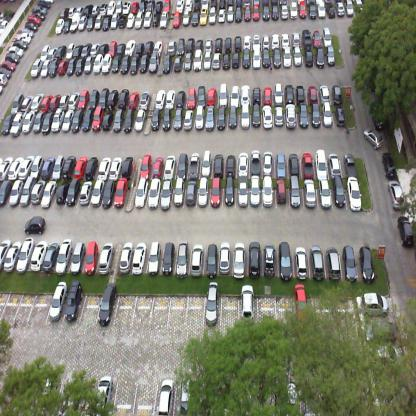car: (384, 383, 411, 415), (364, 321, 399, 345), (97, 282, 116, 326), (48, 280, 68, 321), (64, 279, 83, 320), (360, 291, 388, 317), (372, 346, 402, 369), (158, 378, 176, 416), (358, 244, 375, 284), (16, 237, 34, 274), (95, 376, 113, 412), (205, 281, 219, 326), (55, 238, 72, 274), (346, 176, 362, 213), (397, 214, 414, 248), (362, 125, 384, 151), (342, 244, 357, 282), (3, 242, 22, 272), (278, 241, 292, 281), (131, 241, 147, 276), (42, 240, 59, 272), (30, 241, 48, 271), (294, 284, 308, 322), (240, 284, 254, 322), (118, 242, 134, 275), (70, 242, 86, 275), (310, 244, 324, 281), (19, 176, 36, 206), (248, 240, 261, 279), (176, 239, 189, 278), (98, 242, 113, 275), (370, 104, 387, 133), (326, 245, 340, 280), (84, 240, 98, 275), (295, 245, 308, 281), (134, 178, 149, 209), (388, 181, 404, 210), (41, 179, 57, 208), (114, 176, 128, 208), (162, 240, 175, 274), (333, 175, 346, 209), (24, 216, 46, 236), (101, 179, 116, 208), (8, 179, 24, 206), (190, 244, 203, 277), (18, 155, 35, 180), (10, 111, 27, 136), (382, 152, 397, 180), (289, 173, 301, 208), (91, 177, 105, 207), (233, 242, 244, 280), (160, 178, 173, 210), (30, 179, 46, 205), (148, 240, 160, 274), (0, 238, 12, 272), (148, 178, 161, 209), (286, 382, 298, 415), (206, 242, 217, 278), (66, 179, 80, 207), (0, 179, 14, 207), (51, 106, 65, 134), (315, 148, 327, 180), (262, 174, 274, 206), (0, 112, 16, 136), (70, 108, 84, 135), (318, 179, 331, 208), (264, 244, 275, 278), (185, 179, 198, 207), (79, 180, 93, 206), (62, 154, 76, 180), (52, 154, 66, 180), (238, 174, 249, 207), (304, 178, 316, 208), (197, 176, 209, 206), (108, 156, 123, 180), (41, 156, 56, 180), (8, 157, 24, 179), (21, 112, 37, 134), (224, 176, 236, 205), (97, 157, 112, 180), (220, 240, 230, 274), (328, 152, 341, 178), (163, 154, 176, 180), (188, 152, 200, 180), (84, 156, 98, 180), (92, 104, 104, 132), (10, 92, 24, 116), (56, 181, 70, 204), (201, 148, 212, 177), (250, 148, 262, 174), (176, 152, 188, 178), (140, 152, 152, 178), (74, 156, 87, 180), (30, 155, 43, 179), (284, 103, 296, 129), (123, 108, 135, 134), (250, 175, 260, 206), (210, 177, 220, 208), (302, 152, 314, 177), (262, 105, 274, 130), (172, 106, 184, 131), (62, 107, 74, 132), (121, 156, 134, 179), (0, 158, 13, 181), (76, 87, 90, 108), (112, 108, 124, 132), (344, 154, 357, 176), (174, 180, 185, 206), (152, 156, 165, 178), (322, 101, 333, 127), (32, 112, 45, 134), (48, 57, 61, 79), (30, 92, 45, 111), (276, 177, 286, 204), (276, 151, 286, 178), (216, 104, 226, 131), (238, 152, 249, 176), (334, 104, 346, 126), (183, 108, 194, 132), (154, 89, 166, 111), (134, 110, 146, 132), (117, 88, 129, 110), (82, 110, 94, 132), (42, 112, 54, 134), (149, 50, 160, 74), (311, 102, 321, 128), (218, 82, 228, 108), (204, 105, 214, 131), (102, 111, 115, 131), (30, 58, 43, 78), (315, 47, 326, 70), (299, 102, 308, 130), (107, 89, 119, 110), (289, 152, 299, 177), (262, 150, 272, 175), (240, 106, 250, 131), (194, 106, 204, 131), (88, 88, 99, 110), (303, 47, 314, 69), (291, 44, 302, 66), (101, 53, 112, 75), (226, 152, 236, 176), (332, 82, 342, 106), (150, 108, 160, 132), (193, 49, 203, 73), (138, 54, 150, 74), (119, 56, 131, 76), (20, 95, 34, 112), (57, 58, 70, 76), (83, 55, 96, 73), (93, 53, 104, 74), (202, 48, 212, 71), (41, 94, 53, 113), (8, 45, 24, 59), (319, 82, 329, 104), (308, 84, 319, 104), (262, 84, 272, 106), (240, 84, 250, 106), (230, 85, 240, 107), (165, 88, 176, 108), (326, 44, 336, 66), (162, 53, 172, 75), (129, 56, 140, 76), (252, 104, 261, 128), (162, 106, 171, 130), (68, 91, 80, 109), (40, 59, 52, 77), (74, 58, 86, 76), (284, 82, 294, 103), (274, 104, 284, 125), (99, 86, 109, 107), (252, 49, 262, 70), (80, 43, 94, 58), (1, 60, 16, 74), (228, 105, 236, 131), (274, 82, 283, 105), (49, 94, 61, 111), (124, 39, 136, 56), (12, 39, 29, 51), (221, 50, 231, 70), (183, 51, 193, 71), (214, 154, 223, 176), (111, 55, 122, 73), (107, 39, 118, 57), (65, 42, 76, 60), (77, 14, 88, 32), (101, 13, 112, 31), (128, 92, 140, 108), (153, 40, 165, 56), (89, 42, 101, 58), (206, 86, 216, 105), (140, 90, 150, 109), (302, 30, 312, 49), (176, 36, 186, 55), (40, 43, 50, 62), (66, 57, 76, 76), (70, 13, 80, 32), (317, 0, 327, 19), (327, 0, 337, 19), (187, 87, 196, 108), (272, 48, 281, 69), (53, 18, 64, 35), (284, 45, 292, 68), (59, 93, 71, 108), (322, 27, 332, 45), (311, 29, 321, 47), (242, 48, 251, 68), (174, 55, 184, 73), (5, 52, 20, 64), (17, 32, 32, 44), (86, 14, 96, 32), (152, 10, 162, 28), (355, 0, 365, 18), (198, 84, 206, 106), (72, 44, 83, 60), (93, 15, 104, 31), (176, 88, 185, 107), (262, 49, 271, 68), (280, 32, 290, 49), (142, 11, 152, 28), (55, 45, 67, 59), (31, 9, 46, 20), (296, 84, 305, 102), (110, 11, 119, 29), (134, 13, 144, 29), (190, 11, 200, 27), (0, 67, 13, 79), (143, 40, 154, 54), (231, 52, 240, 69), (234, 34, 242, 53), (252, 3, 260, 22), (290, 1, 298, 20), (204, 37, 214, 52), (118, 14, 128, 29), (199, 10, 209, 25), (253, 86, 261, 104), (272, 32, 280, 50), (262, 32, 270, 50), (252, 32, 260, 50), (215, 36, 223, 54), (212, 52, 220, 70), (167, 39, 176, 55), (63, 18, 72, 34), (126, 11, 134, 29), (182, 9, 190, 27), (208, 7, 216, 25), (262, 3, 270, 21), (280, 3, 288, 21), (336, 0, 345, 16), (47, 48, 58, 61), (83, 2, 94, 15), (242, 35, 252, 49), (185, 37, 195, 51), (116, 42, 126, 56), (27, 16, 41, 26), (106, 0, 116, 14), (137, 0, 147, 14), (292, 30, 300, 47), (160, 11, 168, 28), (173, 11, 181, 28), (234, 5, 242, 22), (308, 2, 316, 19), (346, 0, 354, 17), (122, 0, 131, 15), (99, 41, 109, 54), (35, 5, 48, 15), (218, 7, 226, 23), (226, 6, 234, 22), (243, 6, 251, 22), (272, 4, 280, 20), (24, 21, 38, 30), (135, 42, 145, 54), (22, 28, 34, 38), (131, 0, 140, 13), (299, 1, 305, 20), (225, 36, 232, 52), (0, 74, 8, 88), (155, 0, 163, 14), (145, 0, 155, 11), (183, 0, 193, 11), (195, 38, 204, 50), (175, 0, 184, 12), (193, 0, 201, 13), (92, 4, 102, 14), (68, 6, 77, 17), (38, 0, 50, 8), (201, 0, 209, 12), (100, 3, 108, 14), (163, 0, 171, 11), (115, 0, 122, 12), (76, 4, 85, 13), (210, 0, 218, 8), (218, 0, 225, 8)
